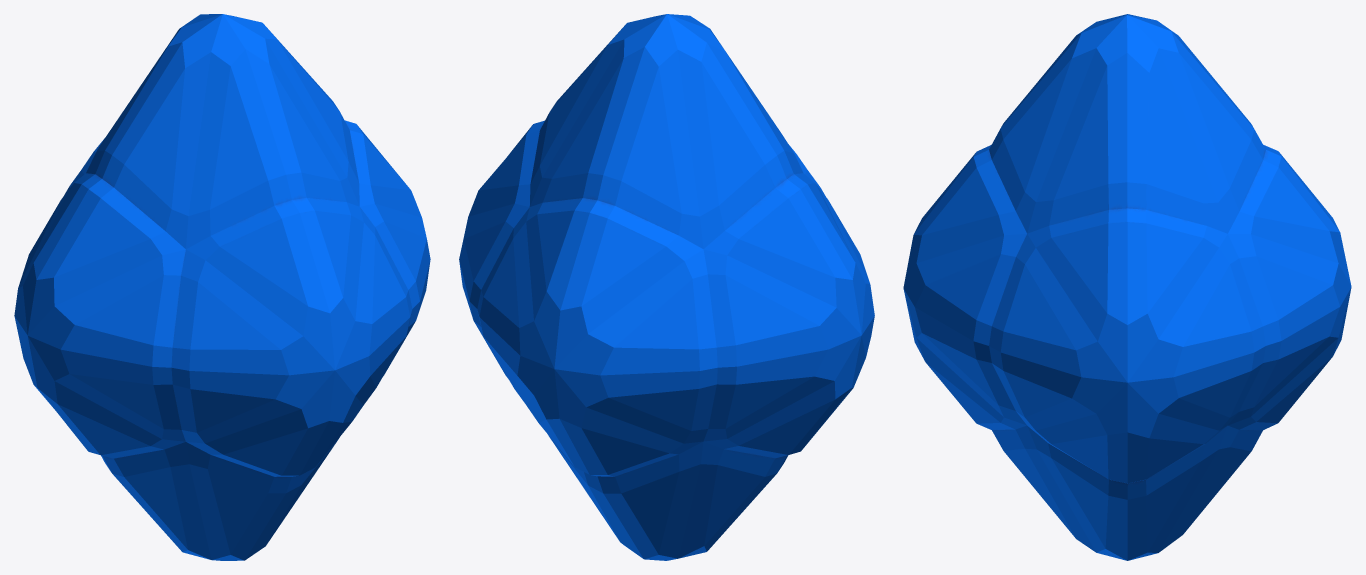
Rendered from gem.fbx.
3 views of the same model, side by side, from view 1: azimuth 30°, elevation 25°; view 2: azimuth 150°, elevation 25°; view 3: azimuth 270°, elevation 25° (orthographic).
Parts seen in each view (by area): view 1: pCube22; view 2: pCube22; view 3: pCube22.
Part boxes in pixels (x1,y1,x2,y2): pCube22: (14,14,430,560); pCube22: (459,14,874,560); pCube22: (903,14,1351,560).
Bounding box in the file's own units: 23.17 × 31.09 × 23.17.
